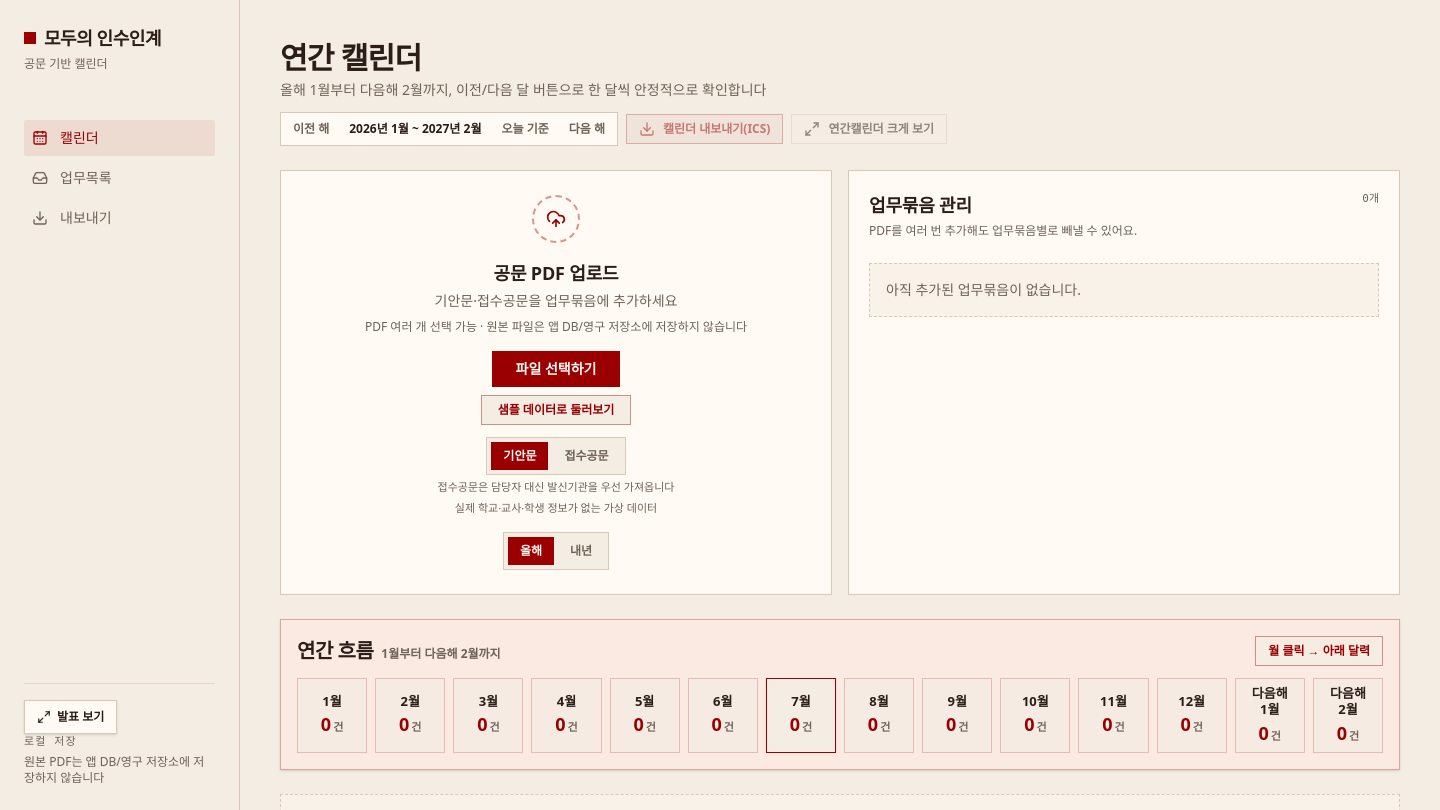
Scenario: team-handoff frontend replacement › navigates only between calendar, task list, and export screens
This screenshot has width=1440, height=810.
Check: the heading "연간 캘린더" is shown, box [280, 37, 421, 78]
Click the button "업무목록".
click(120, 178)  # box [24, 160, 215, 196]
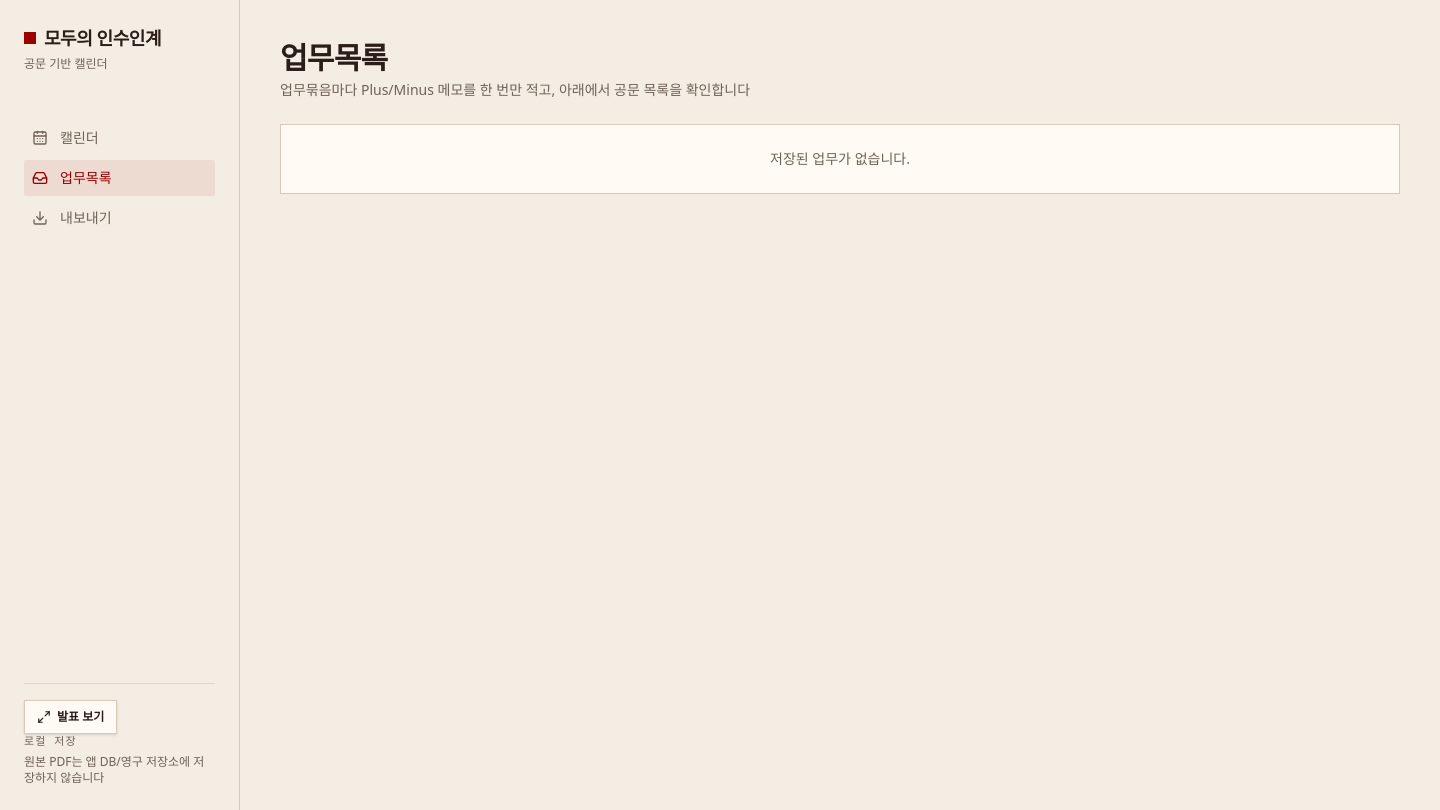
Check: the heading "업무목록" is shown, box [280, 37, 387, 78]
Click the button "내보내기".
click(120, 218)  # box [24, 200, 215, 236]
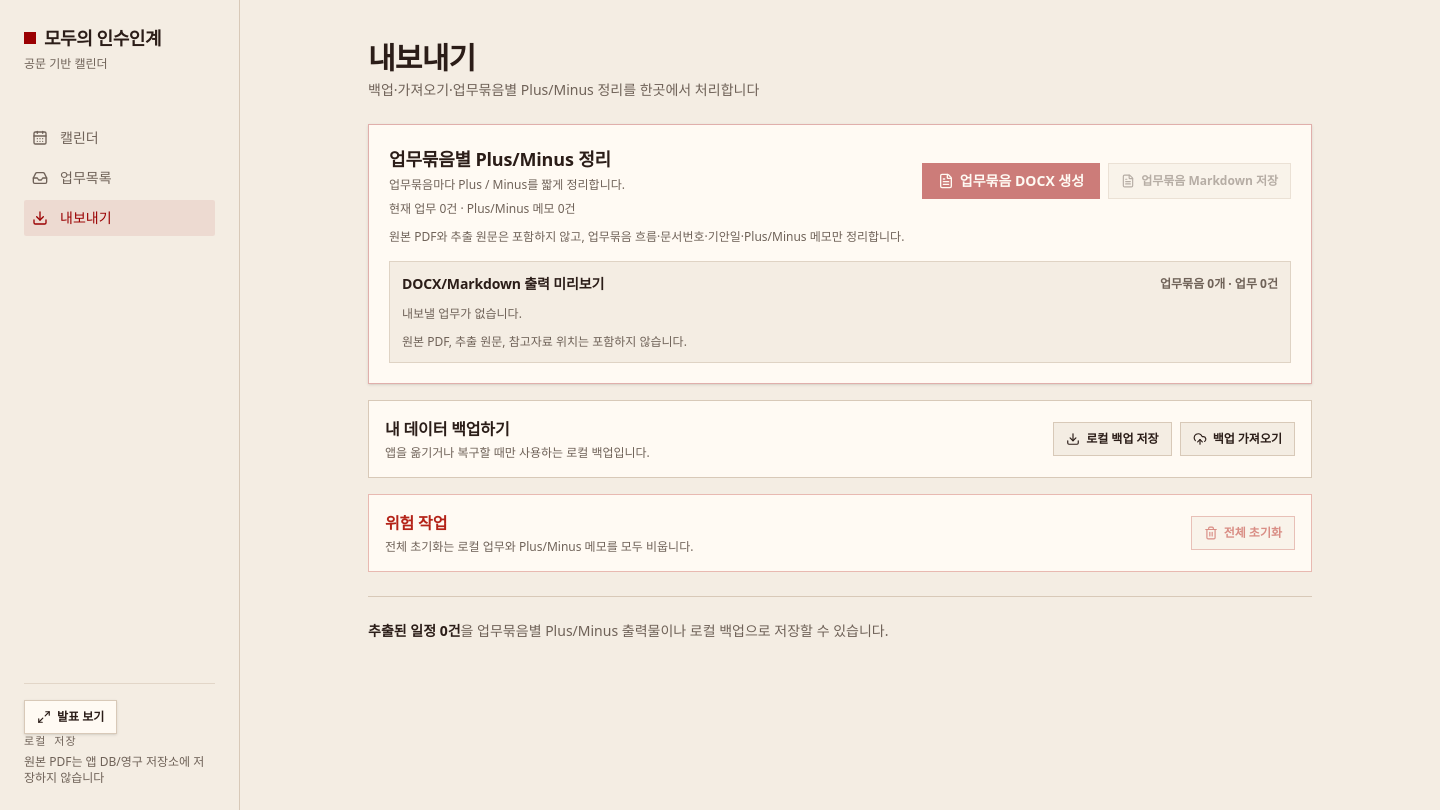
Check: the heading "내보내기" is shown, box [368, 37, 475, 78]
Click the button "캘린더".
click(120, 138)  # box [24, 120, 215, 156]
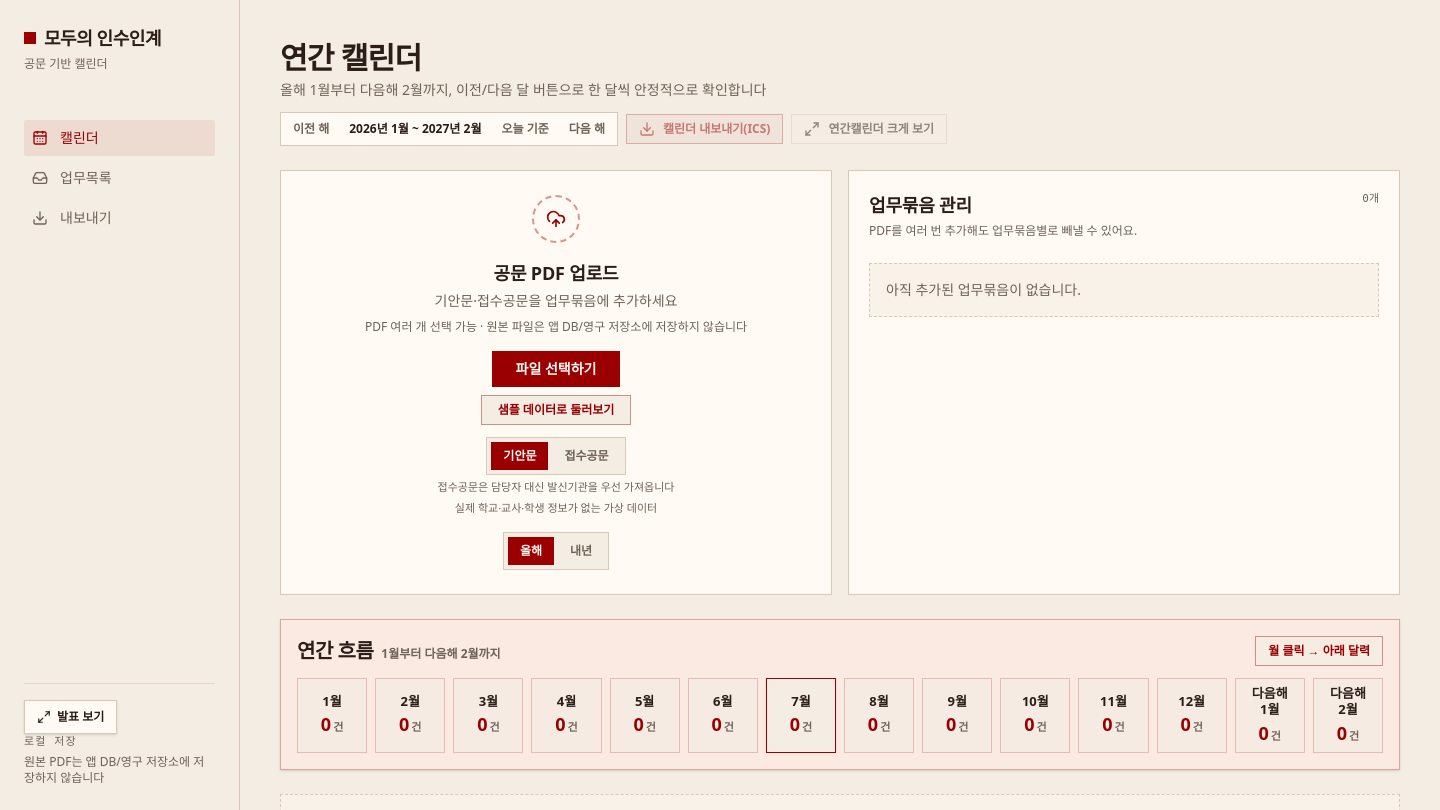
Check: the heading "연간 캘린더" is shown, box [280, 37, 421, 78]
